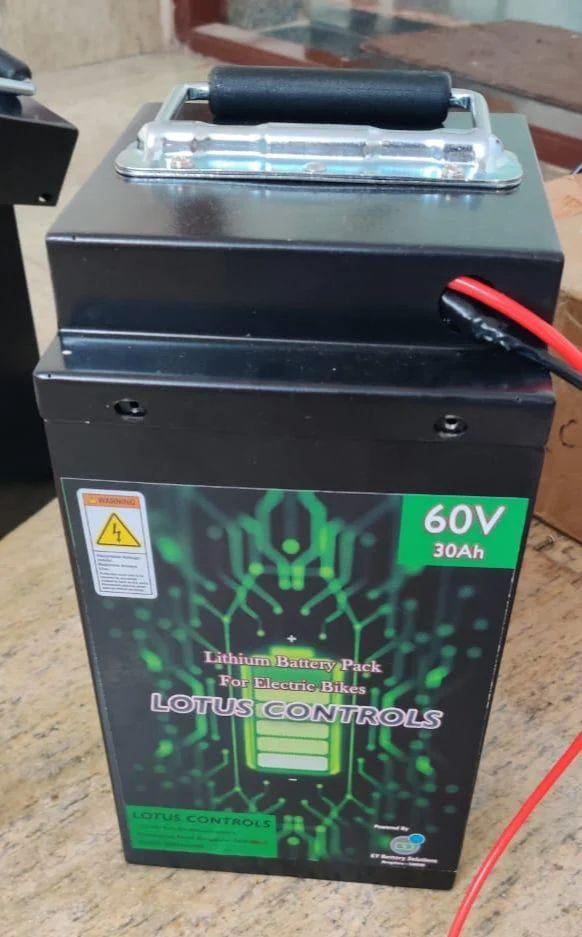battery: (32, 65, 569, 894)
